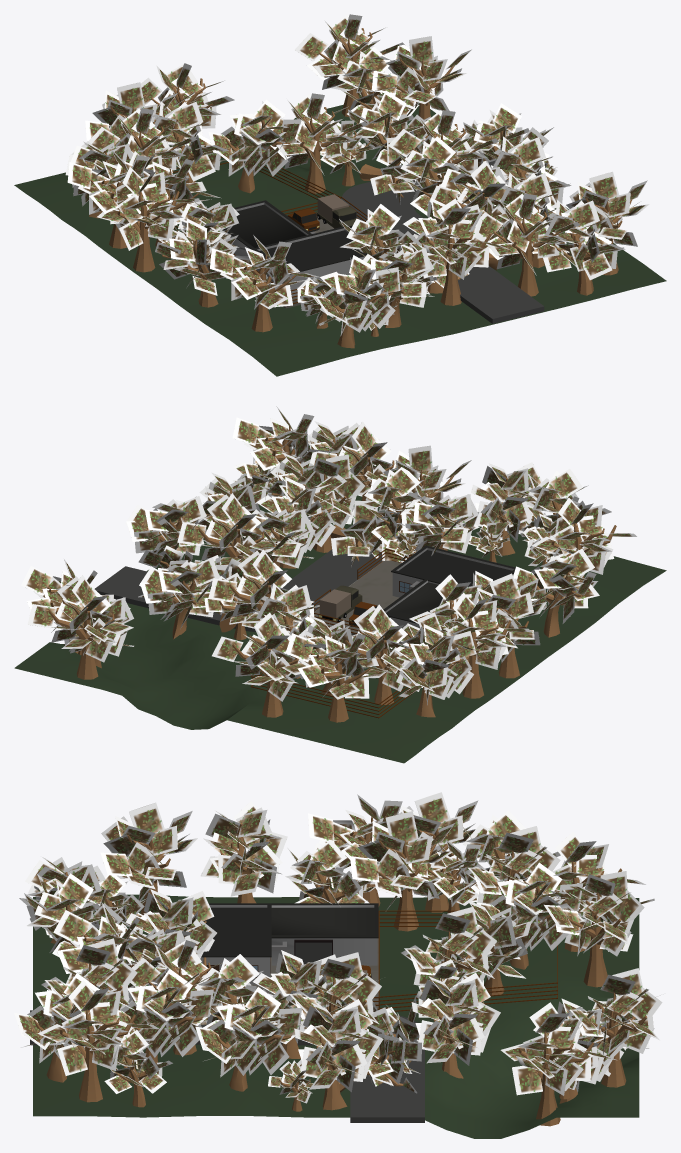
Rendered from schronisko.fbx.
3 views of the same model, one above another, from view 1: azimuth 30°, elevation 25°; view 2: azimuth 150°, elevation 25°; view 3: azimuth 270°, elevation 25° (orthographic). The views are drawn at different scales.
Parts seen in each view (by area): view 1: ziemia, droga, Plane.006, Cylinder.001, Cylinder.029, Plane.034, Cylinder.018, Cylinder.004, Cylinder.021, Plane.014, Cylinder.041, Cylinder.020 (+29 smaller); view 2: ziemia, Cylinder.020, Plane.028, Cylinder.038, Cylinder.035, droga, Plane.026, Plane.040, Plane.007, Cylinder.016, Plane.005, Cylinder.029 (+35 smaller); view 3: ziemia, Plane.013, Plane.015, Cylinder.036, Cylinder.021, Plane.040, Cylinder.019, Cylinder.038, Plane.026, Cylinder.029, sciany_zewnetrzne.001, Plane.012 (+33 smaller).
Boxes of the visible parts, box(x1,y1,x2,y2) form: ziemia: box(14, 103, 666, 376); droga: box(341, 160, 544, 323); Plane.006: box(314, 255, 400, 348); Cylinder.001: box(97, 167, 199, 272); Cylinder.029: box(210, 235, 319, 332); Plane.034: box(208, 99, 301, 193); Cylinder.018: box(478, 193, 579, 296); Cylinder.004: box(415, 198, 510, 305); Cylinder.021: box(371, 36, 471, 138); Plane.014: box(543, 200, 625, 295); Cylinder.041: box(260, 93, 368, 193); Cylinder.020: box(295, 14, 404, 117); ziemia: box(14, 495, 666, 763); Cylinder.020: box(27, 575, 133, 679); Plane.028: box(395, 624, 476, 717); Cylinder.038: box(212, 612, 306, 717); Cylinder.035: box(285, 627, 392, 722); droga: box(94, 511, 384, 631); Plane.026: box(513, 549, 599, 637); Plane.040: box(139, 557, 219, 639); Plane.007: box(471, 462, 542, 555); Cylinder.016: box(177, 493, 283, 565); Plane.005: box(400, 494, 478, 555); Cylinder.029: box(532, 498, 636, 582); ziemia: box(33, 894, 639, 1138); Plane.013: box(195, 987, 301, 1091); Plane.015: box(294, 999, 383, 1110); Cylinder.036: box(350, 811, 454, 931); Cylinder.021: box(500, 1002, 616, 1126); Plane.040: box(411, 972, 500, 1078); Cylinder.019: box(38, 980, 159, 1102); Cylinder.038: box(543, 871, 654, 987); Plane.026: box(200, 801, 287, 903); Cylinder.029: box(100, 802, 197, 915); sciany_zewnetrzne.001: box(271, 903, 378, 965); Plane.012: box(118, 968, 213, 1062).
Bounding box in the file's own units: 6436 × 5784 × 1448.
